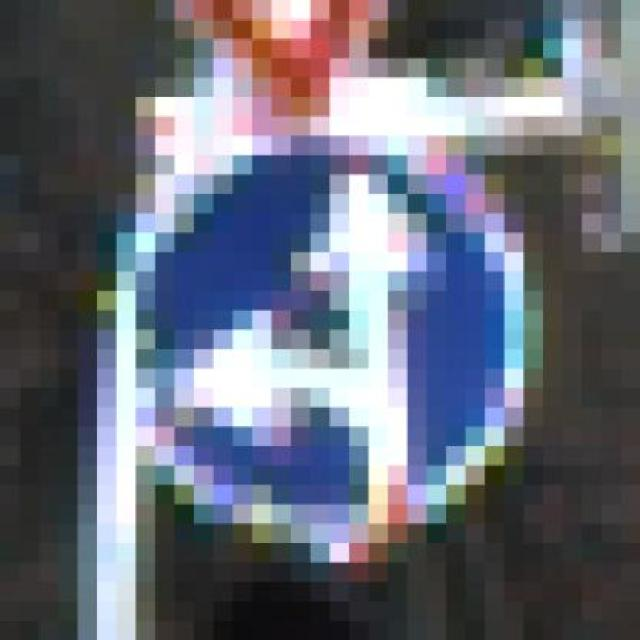Go straight or turn left: (58, 116, 582, 562)
